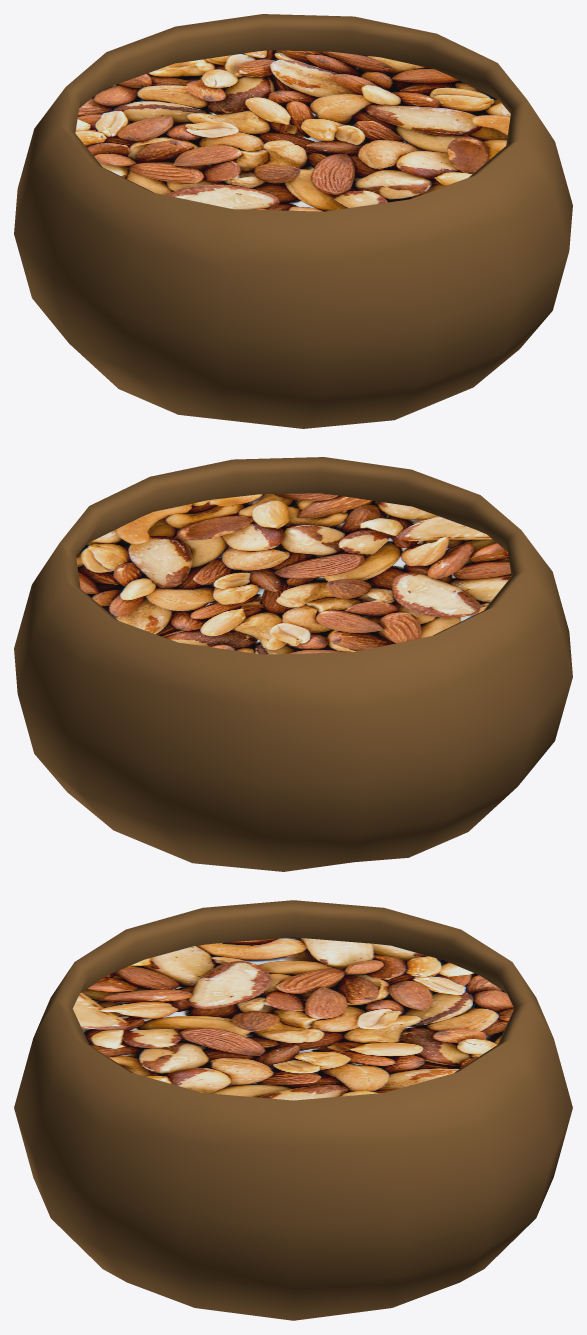
File: Cumbuca de Castanhas.fbx
3 views of the same model, one above another, from view 1: azimuth 30°, elevation 25°; view 2: azimuth 150°, elevation 25°; view 3: azimuth 270°, elevation 25° (orthographic).
Parts seen in each view (by area): view 1: Cumbuca, Textura Castanhas; view 2: Cumbuca, Textura Castanhas; view 3: Cumbuca, Textura Castanhas.
Part boxes in pixels (x1,y1,x2,y2): Cumbuca: [14, 14, 572, 428]; Textura Castanhas: [75, 50, 510, 211]; Cumbuca: [14, 457, 572, 871]; Textura Castanhas: [76, 493, 511, 654]; Cumbuca: [14, 900, 572, 1320]; Textura Castanhas: [72, 937, 514, 1100].
Bounding box in the file's own units: 29.97 × 14.68 × 29.97.
Materials: 2 (1 with a texture image).
